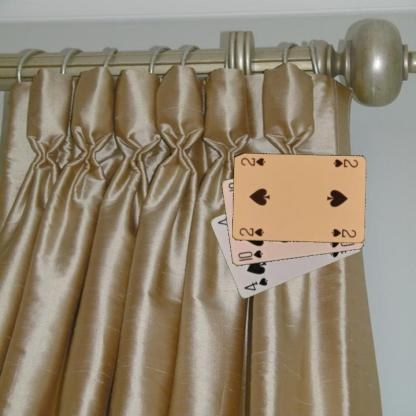10s: (235, 248, 264, 262)
2s: (330, 156, 359, 168), (236, 226, 265, 237)
4s: (242, 275, 269, 292)
